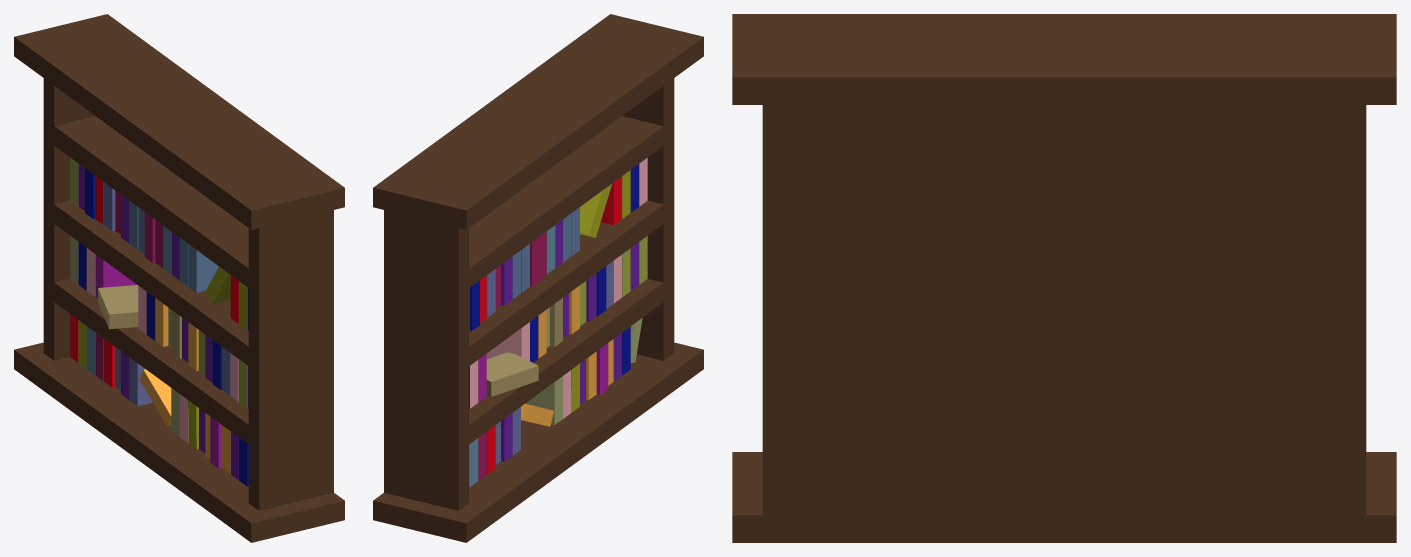
Rendered from Bookshelf.fbx.
3 renders of one model, left to right at view 1: azimuth 30°, elevation 25°; view 2: azimuth 150°, elevation 25°; view 3: azimuth 270°, elevation 25°, orthographic. The views are drawn at different scales.
Visible parts, largest first — view 1: Bookshelf, Cube.037, Cube.067, Cube.011, Cube.033, Cube.010, Cube.068, Cube.040, Cube.020, Cube.062, Cube.007, Cube.057 (+12 smaller); view 2: Bookshelf, Cube.037, Cube.068, Cube.015, Cube.038, Cube.072, Cube.020, Cube.042, Cube.011, Cube.009, Cube.059, Cube.062 (+10 smaller); view 3: Bookshelf.
Part boxes in pixels (x1=…): Bookshelf: x1=14, y1=14, x2=344, y2=542; Cube.037: x1=98, y1=285, x2=138, y2=329; Cube.067: x1=188, y1=244, x2=218, y2=292; Cube.011: x1=139, y1=369, x2=171, y2=426; Cube.033: x1=95, y1=254, x2=136, y2=298; Cube.010: x1=129, y1=357, x2=152, y2=406; Cube.068: x1=206, y1=266, x2=230, y2=303; Cube.040: x1=155, y1=298, x2=168, y2=346; Cube.020: x1=210, y1=416, x2=221, y2=468; Cube.062: x1=144, y1=212, x2=155, y2=262; Cube.007: x1=104, y1=339, x2=115, y2=387; Cube.057: x1=104, y1=182, x2=115, y2=231; Bookshelf: x1=373, y1=14, x2=703, y2=542; Cube.037: x1=486, y1=352, x2=538, y2=396; Cube.068: x1=580, y1=183, x2=612, y2=237; Cube.015: x1=525, y1=376, x2=562, y2=424; Cube.038: x1=486, y1=322, x2=529, y2=360; Cube.072: x1=601, y1=176, x2=621, y2=225; Cube.020: x1=596, y1=343, x2=608, y2=394; Cube.042: x1=550, y1=298, x2=562, y2=346; Cube.011: x1=521, y1=403, x2=553, y2=426; Cube.009: x1=501, y1=413, x2=512, y2=461; Cube.059: x1=501, y1=256, x2=512, y2=305; Cube.062: x1=530, y1=236, x2=540, y2=286; Bookshelf: x1=732, y1=14, x2=1396, y2=542.
Size of the model in its own units: 109 by 372 by 481.
Materials: 1 (1 with a texture image).
